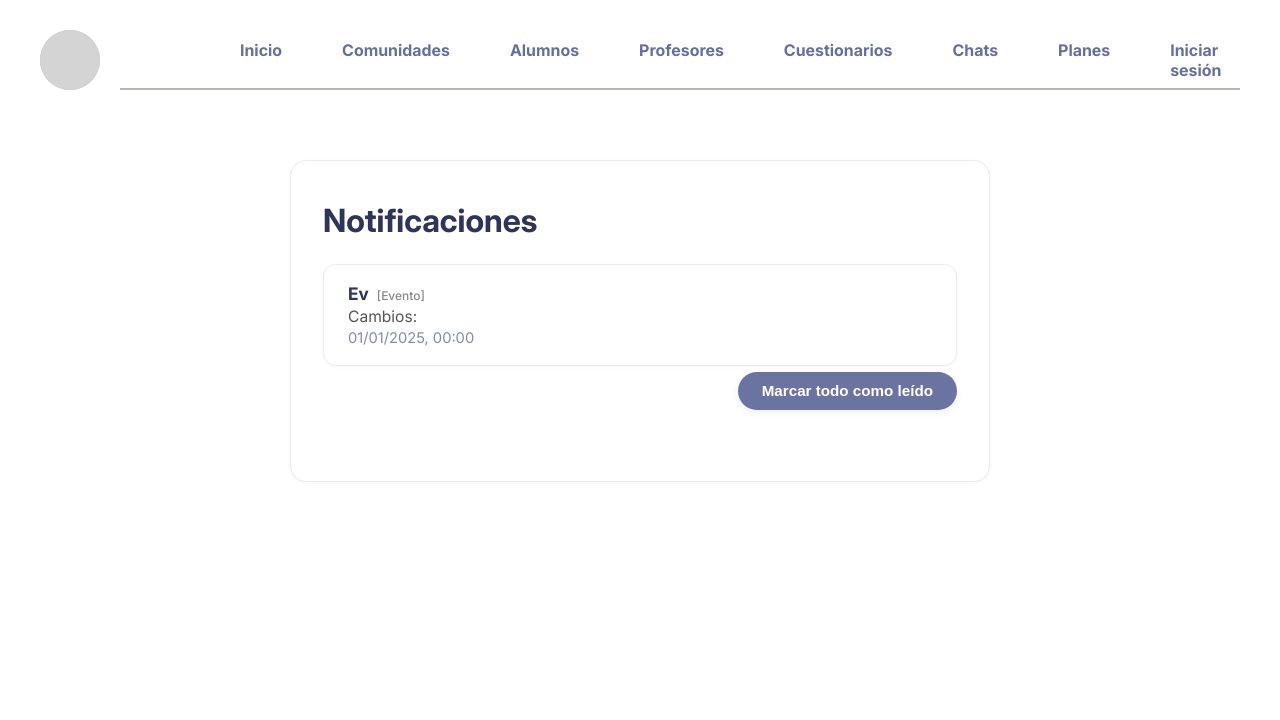
Scenario: NotificationTab › renderChangesList with empty text
This screenshot has width=1280, height=720.
Expected: the text "Ev" is shown, 348,283 -> 369,304
Click the list item "Ev". click: (640, 315)
box: 323,264 -> 957,366
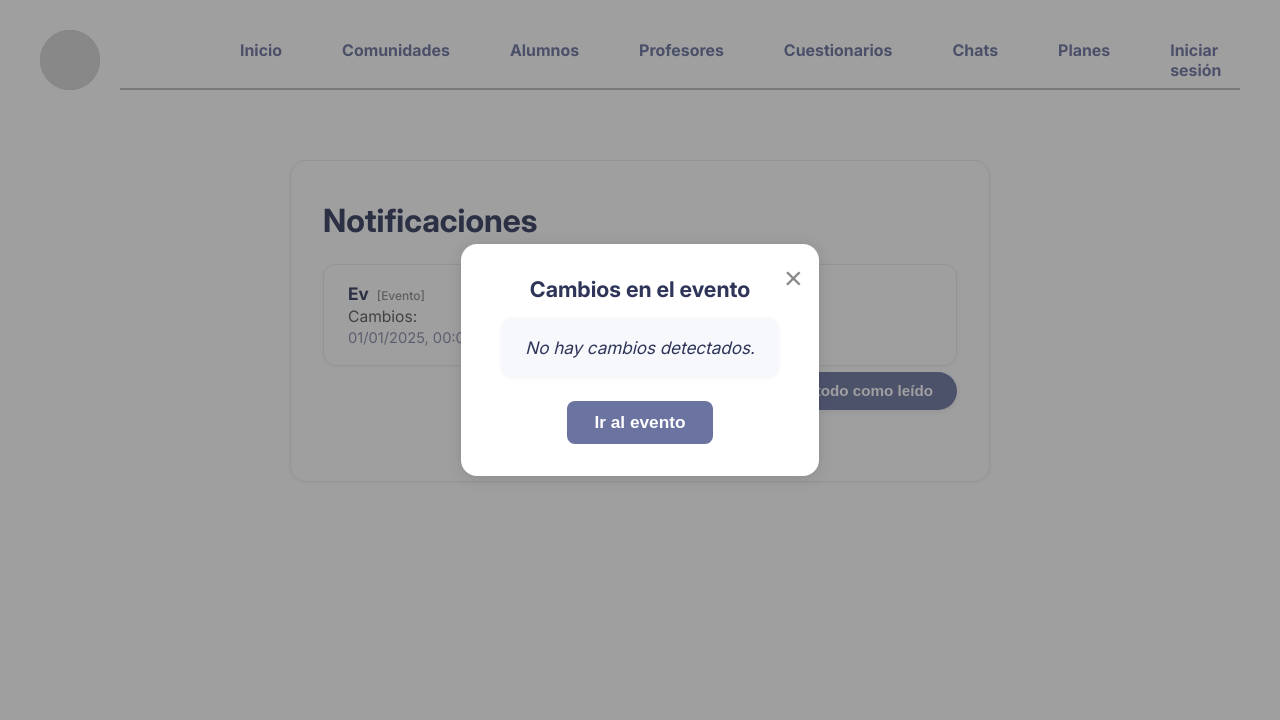
Expected: the text "No hay cambios detectados." is shown, 525,337 -> 755,358
